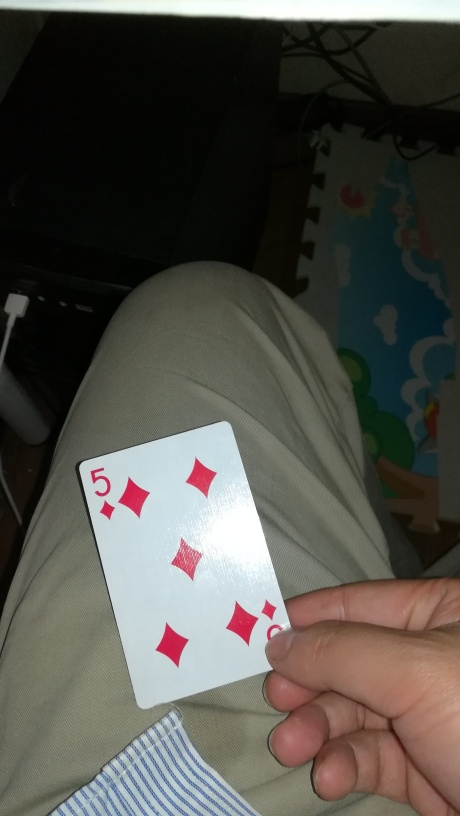fk 5: (77, 418, 304, 713)
